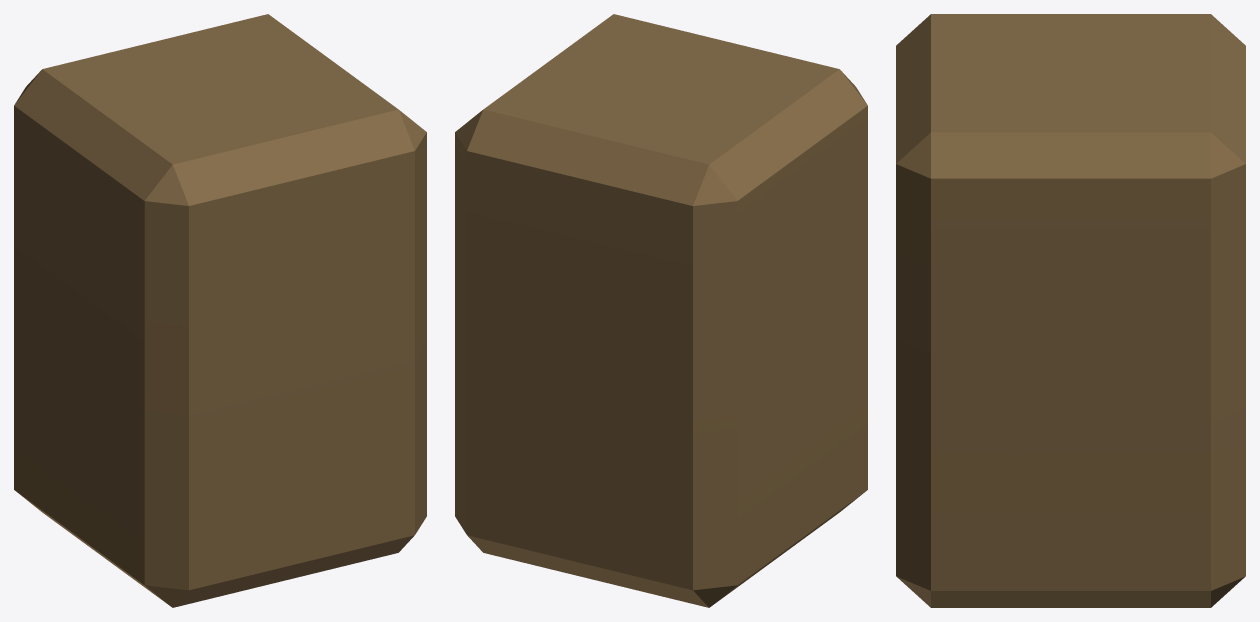
Rendered from hanging_lantern.glb.
The picture shows the model from 3 angles, left to right: view 1: azimuth 30°, elevation 25°; view 2: azimuth 150°, elevation 25°; view 3: azimuth 270°, elevation 25°; orthographic projection. The views are drawn at different scales.
Parts seen in each view (by area): view 1: cellar_lantern; view 2: cellar_lantern; view 3: cellar_lantern.
Part boxes in pixels (bbox=[...]): cellar_lantern: bbox=[14, 14, 426, 607]; cellar_lantern: bbox=[455, 14, 867, 607]; cellar_lantern: bbox=[896, 14, 1245, 607].
Size of the model in its own units: 0.2 by 0.3 by 0.2.
